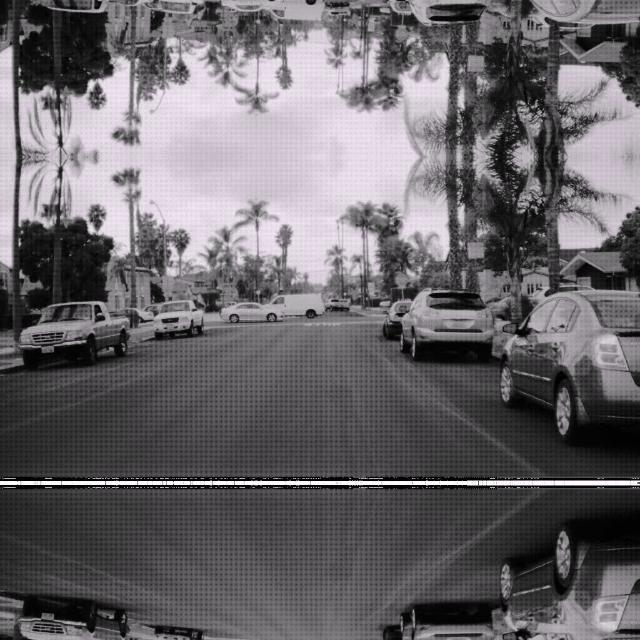stop: (394, 271, 408, 285), (394, 27, 408, 41)
